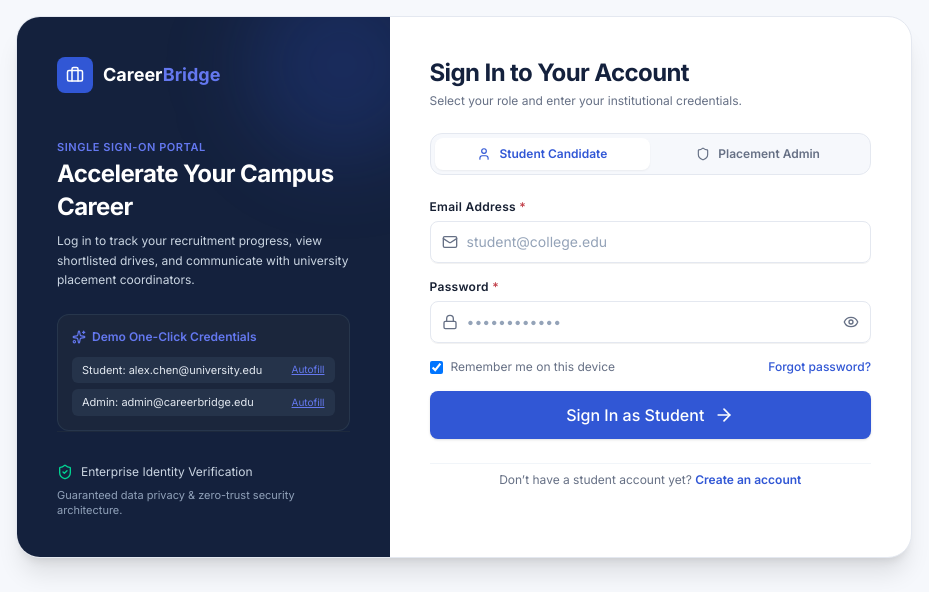
Authentication UI & Validation Tests › switches role between student and admin on login page
Click the button "Placement Admin" at (758, 154), box [650, 138, 866, 170]
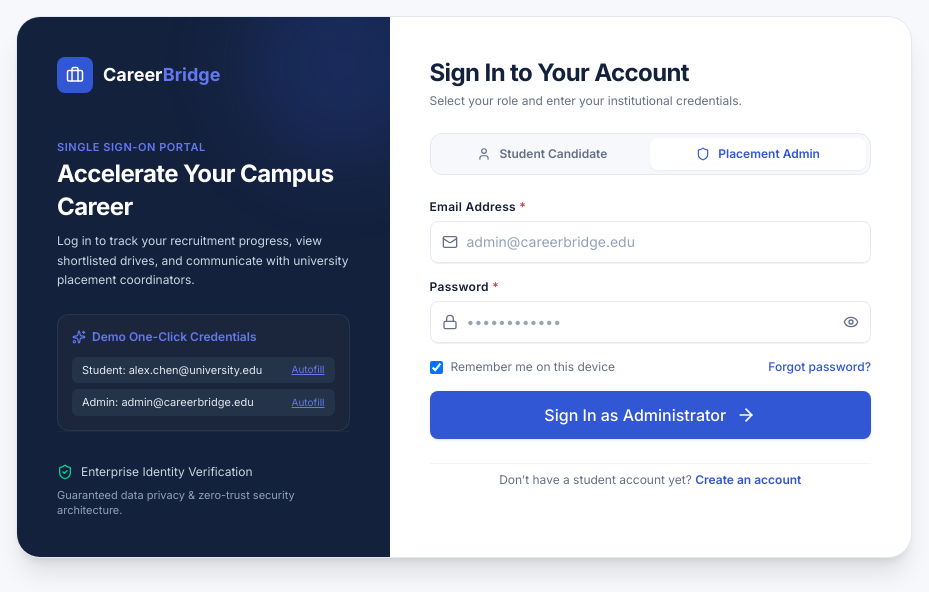
Expected: the button "Sign In as Administrator" is shown, [430, 391, 871, 439]
